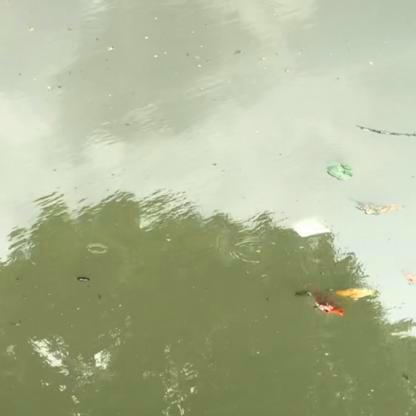Trash: (302, 281, 376, 322), (318, 159, 352, 186)
